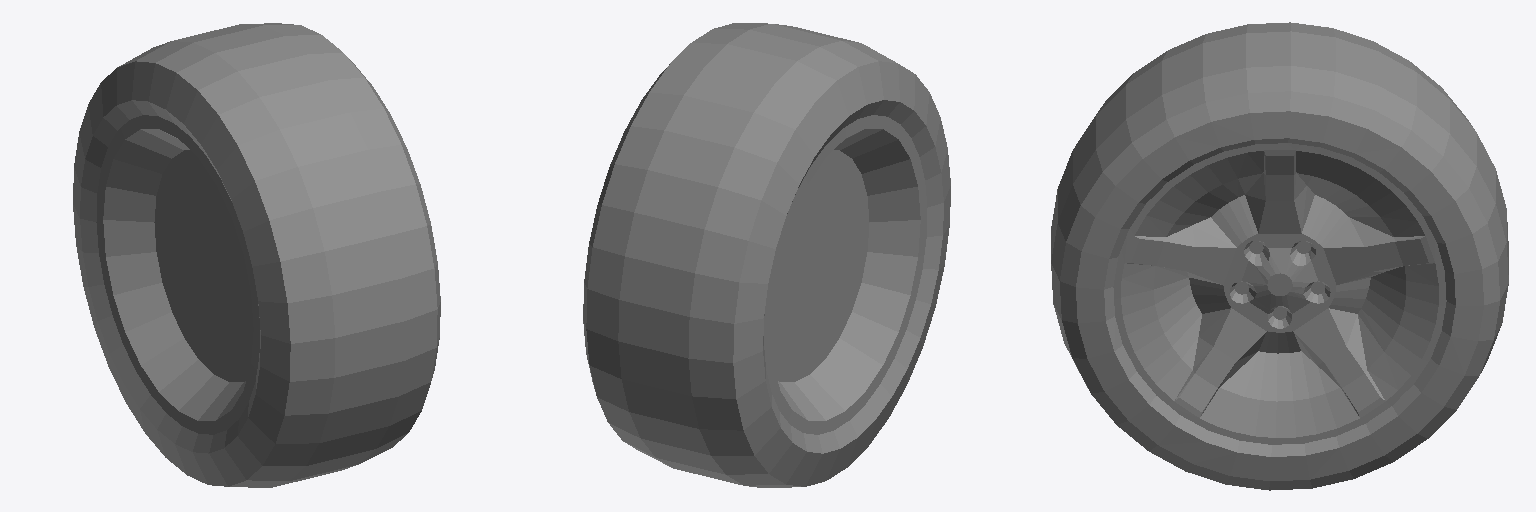
Rendered from Wheel4.obj.
3 views of the same model, side by side, from view 1: azimuth 30°, elevation 25°; view 2: azimuth 150°, elevation 25°; view 3: azimuth 270°, elevation 25° (orthographic).
Visible parts, largest first — view 1: BTechFix; view 2: BTechFix; view 3: BTechFix.
Boxes of the visible parts, x1=… form: BTechFix: x1=73, y1=23, x2=440, y2=487; BTechFix: x1=583, y1=23, x2=950, y2=487; BTechFix: x1=1051, y1=22, x2=1508, y2=490.
Size of the model in its own units: 35.25 by 81.69 by 81.69.